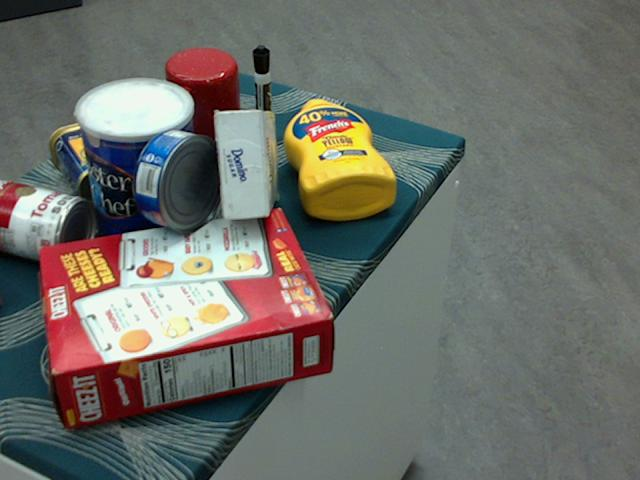cracker_box: (41, 208, 332, 427)
gelatin_box: (0, 290, 3, 304)
large_marker: (252, 44, 271, 149)
master_chef_can: (76, 80, 199, 263)
mug: (163, 49, 245, 147)
mustard_bottle: (283, 98, 396, 220)
potted_meat_can: (49, 112, 170, 208)
sugar_box: (218, 110, 275, 220)
tomato_soup_can: (0, 176, 95, 267)
tuna_fish_can: (132, 128, 225, 231)
